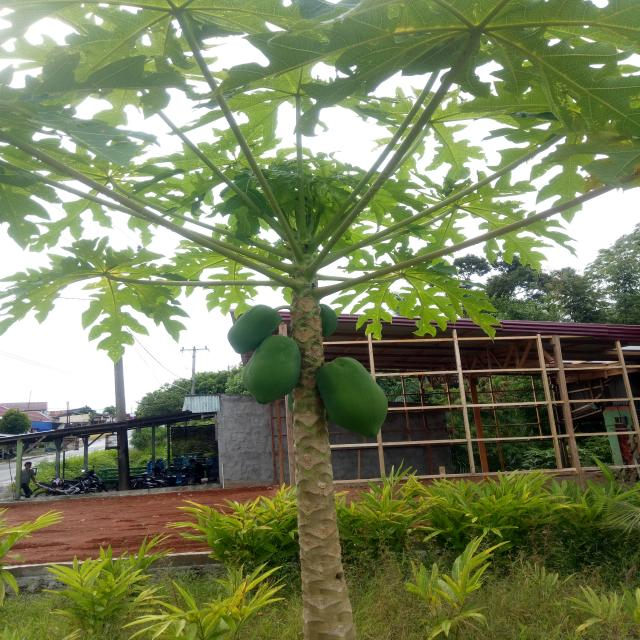Pepaya unrippen: (316, 348, 392, 443), (240, 336, 310, 411), (226, 308, 288, 354)
